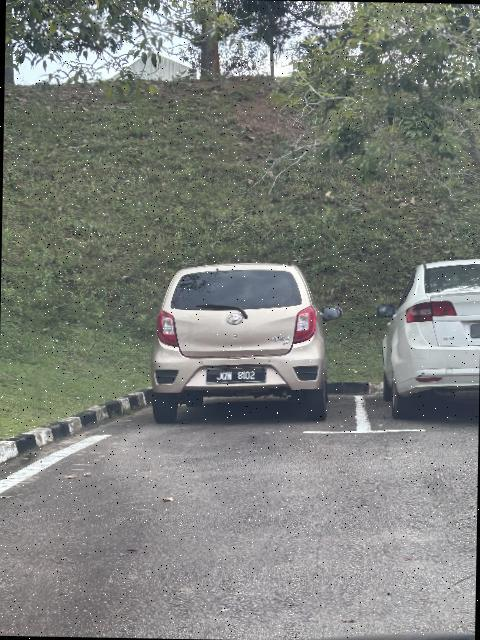JQW8102: (205, 367, 270, 386)
License_Plate: (205, 367, 270, 386)
car: (145, 264, 336, 427), (376, 248, 480, 405)
